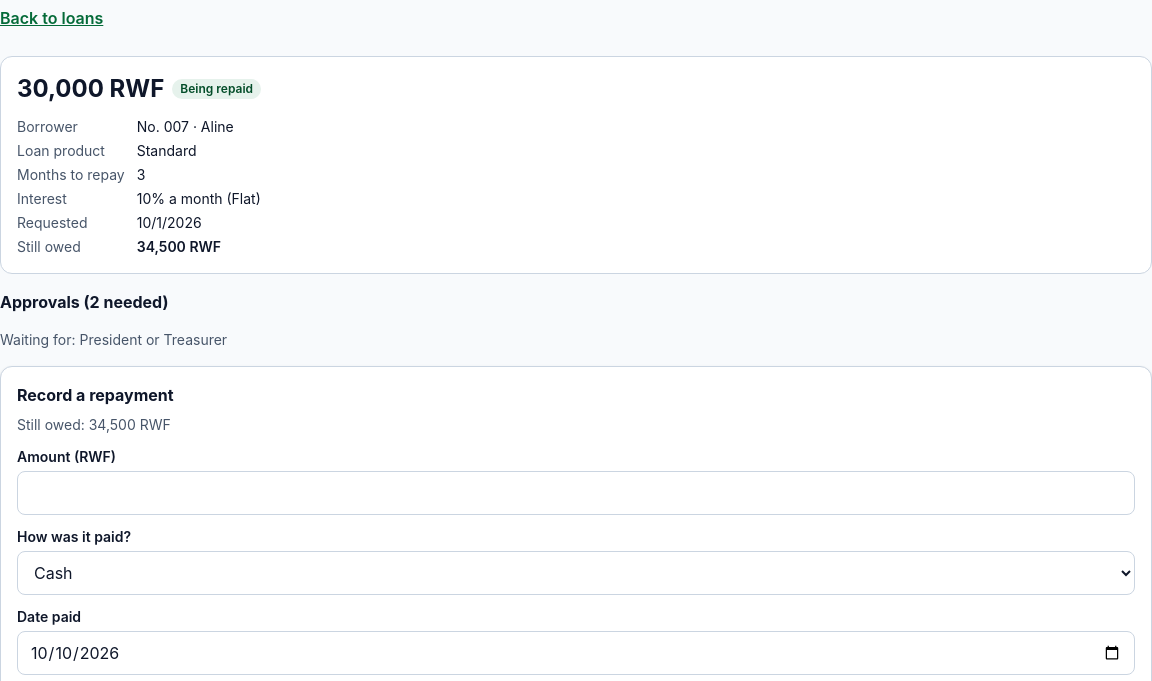
Test case: loans › retries a repayment with the same Idempotency-Key and uses a new one for the next
Step 1. Type "5000" into the field labelled "Amount (RWF)" → (576, 493), box [17,471,1135,515]
(page scrolled)
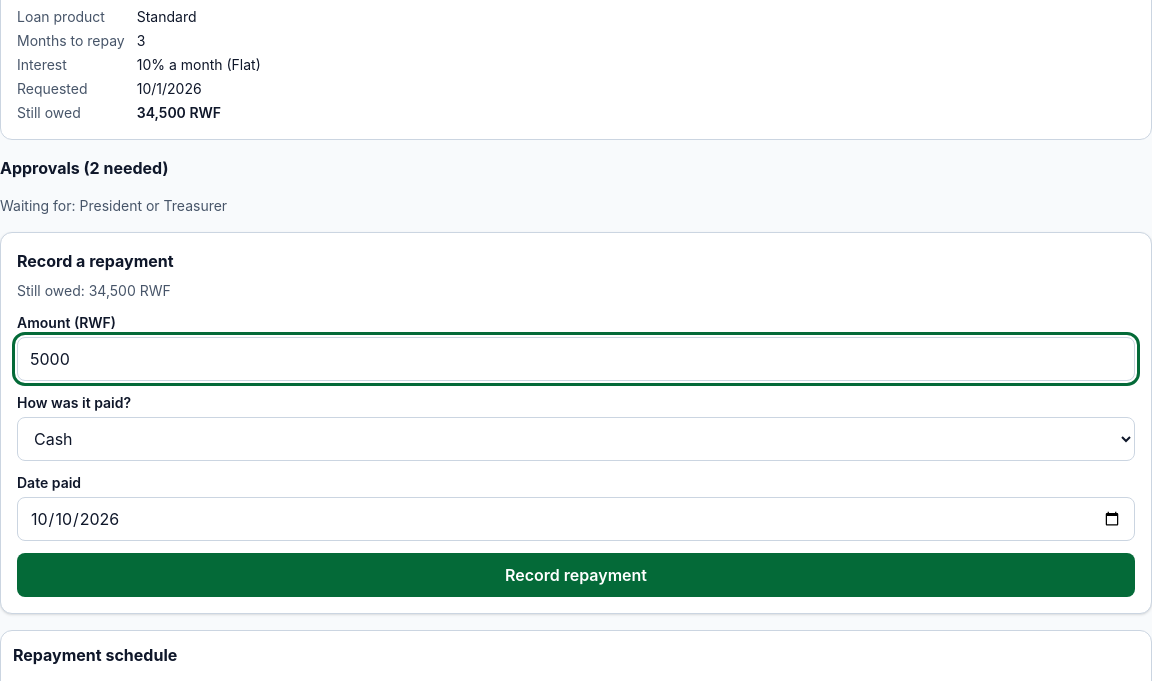
Step 2. Click the button "Record repayment" → (576, 575), box [17,553,1135,597]
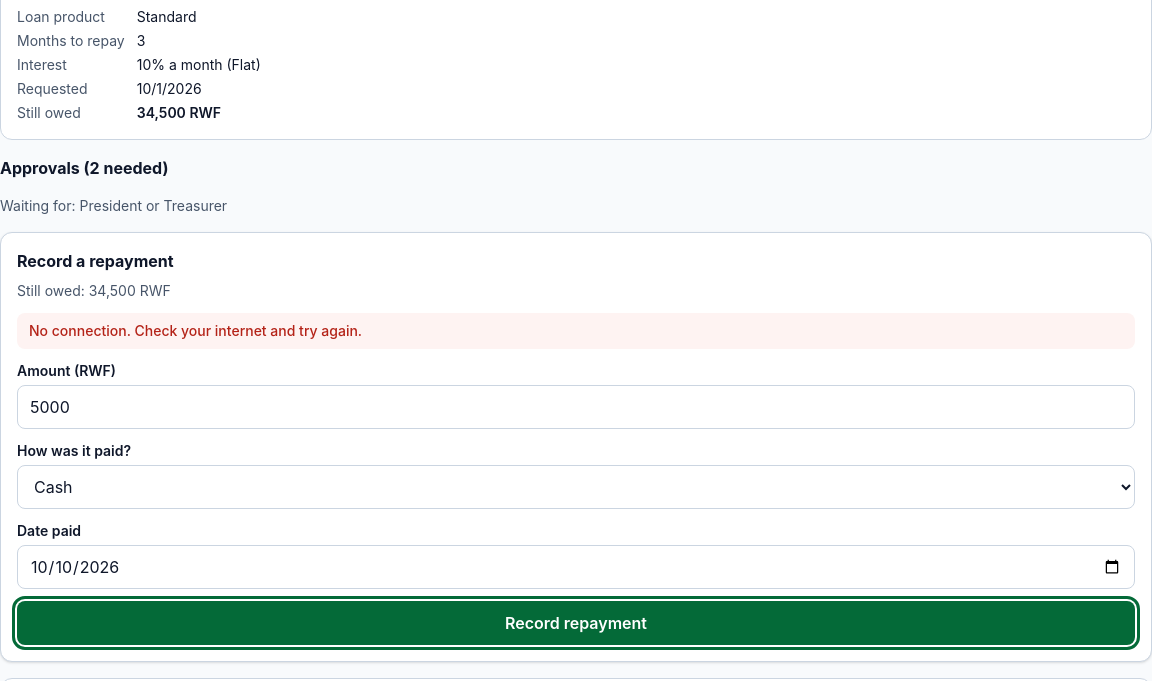
Expected: the message "No connection. Check your internet and try again." is shown, [17,313,1135,349]
Step 3. Click the button "Record repayment" → (576, 623), box [17,601,1135,645]
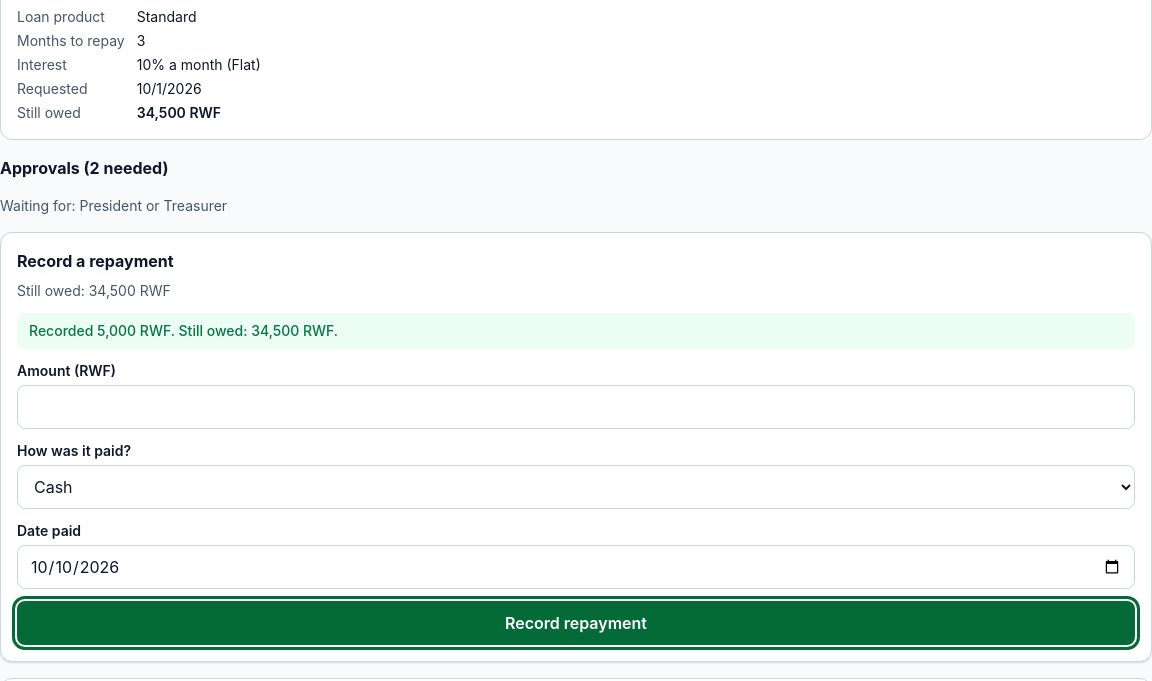
Expected: the text "Recorded 5,000 RWF. Still owed: 34,500 RWF." is shown, [17,313,1135,349]
Step 4. Type "1000" into the field labelled "Amount (RWF)" → (576, 407), box [17,385,1135,429]
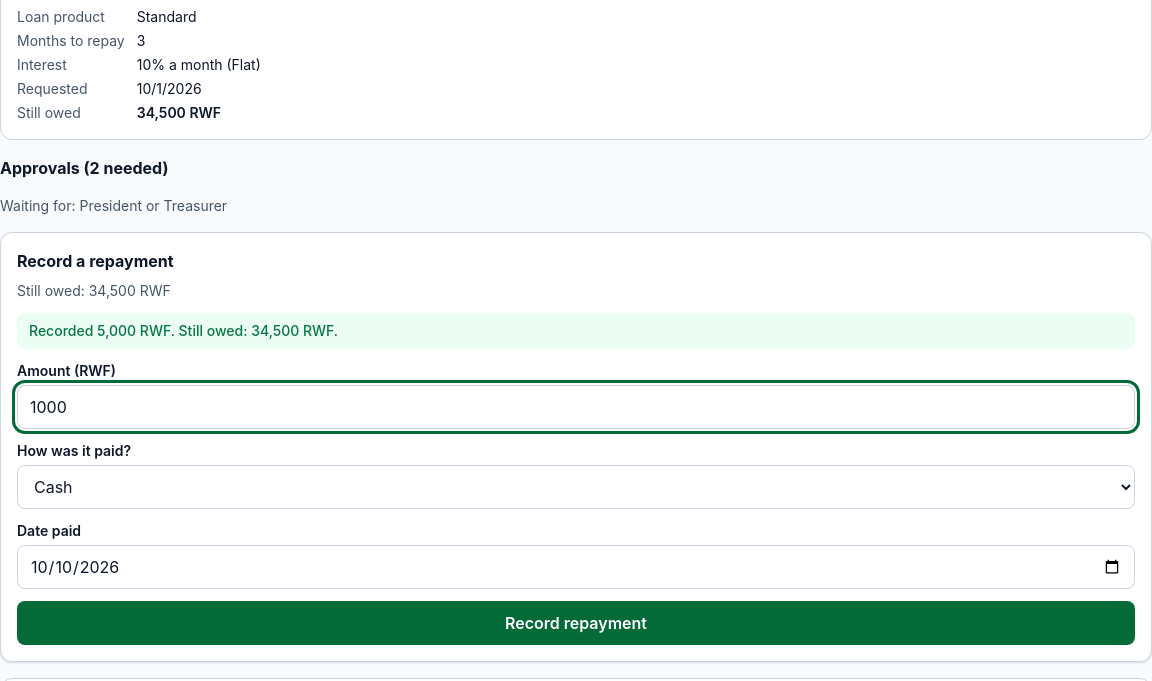
Step 5. Click the button "Record repayment" → (576, 623), box [17,601,1135,645]
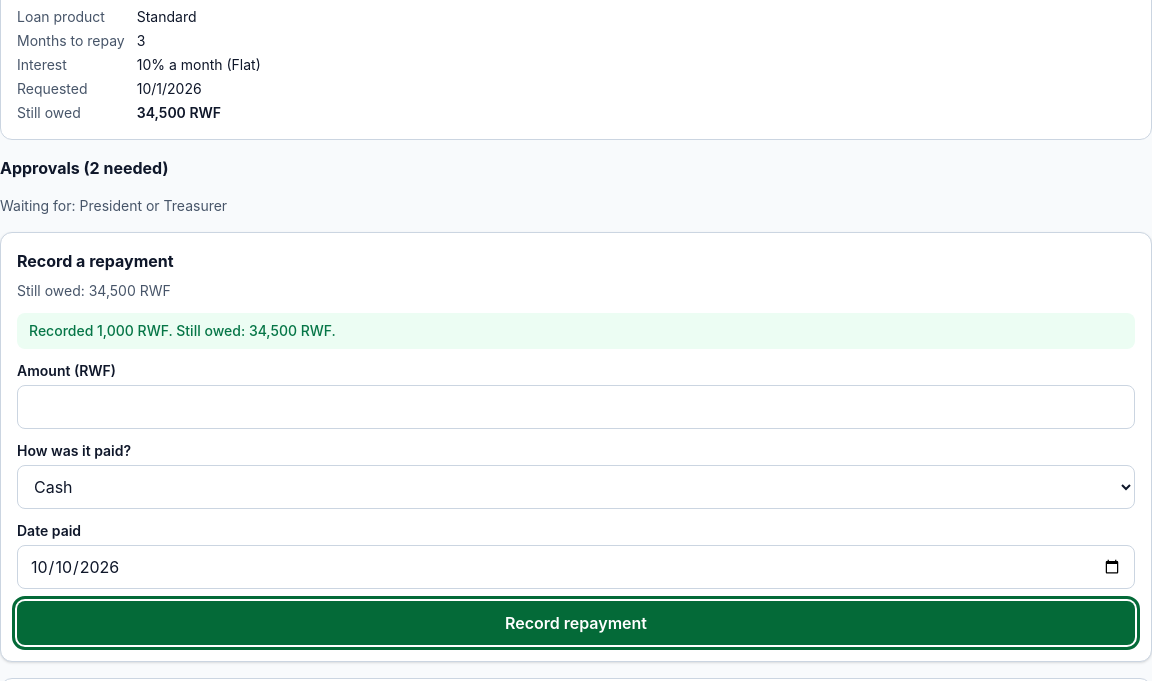
Expected: the text "Recorded 1,000 RWF. Still owed: 34,500 RWF." is shown, [17,313,1135,349]
